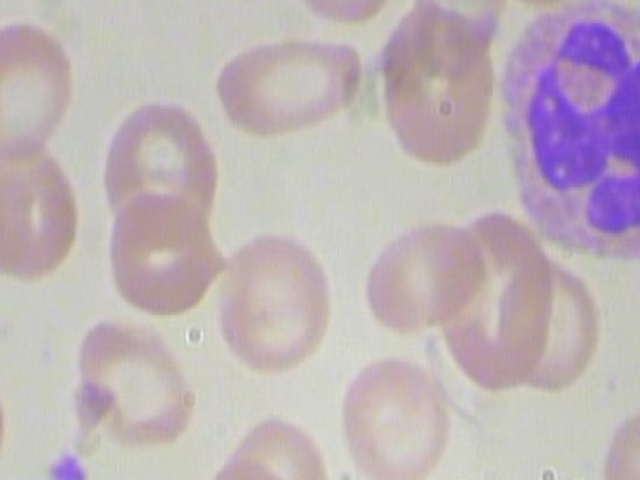Platelets: (39, 445, 94, 480)
RBC: (63, 300, 205, 450), (198, 26, 374, 143), (94, 180, 230, 325), (211, 224, 336, 378), (347, 221, 494, 338), (335, 346, 456, 480), (0, 11, 84, 173), (0, 129, 80, 291), (585, 395, 640, 480), (271, 0, 412, 28), (189, 451, 307, 480), (489, 0, 612, 22)
WBC: (491, 0, 640, 281)
